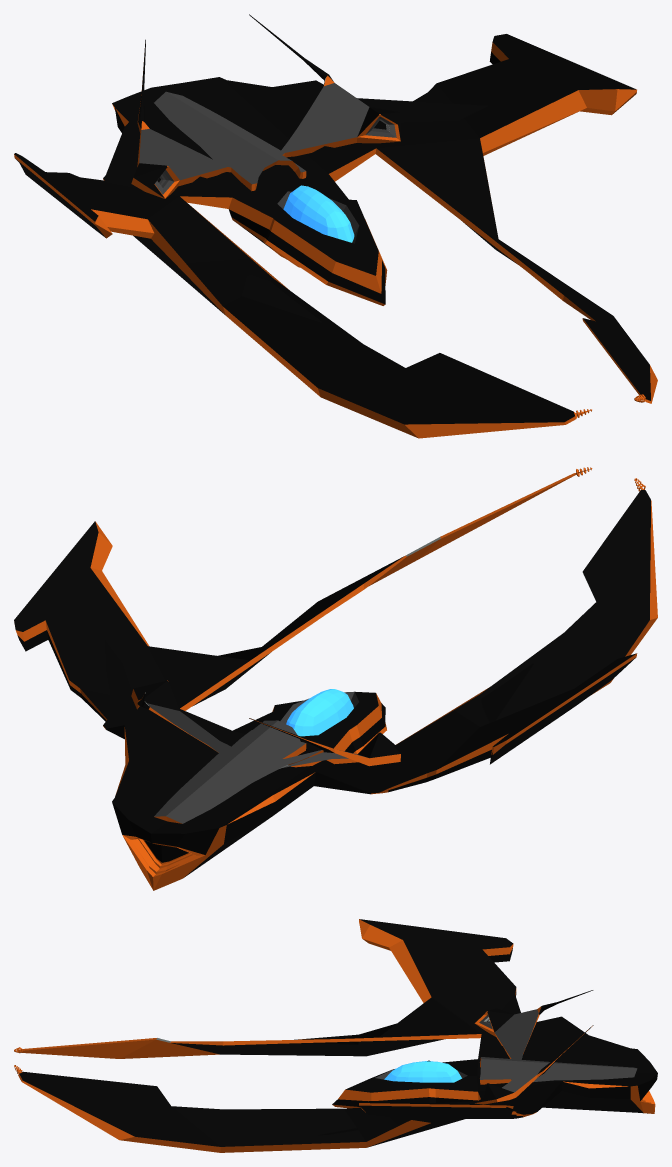
The model's file is Ship02.fbx.
The picture shows the model from 3 angles, top to bottom: view 1: azimuth 30°, elevation 25°; view 2: azimuth 150°, elevation 25°; view 3: azimuth 270°, elevation 25°; orthographic projection. The views are drawn at different scales.
Parts seen in each view (by area): view 1: Cube; view 2: Cube; view 3: Cube.
Part boxes in pixels (x1,y1,x2,y2): Cube: (14, 14, 657, 438); Cube: (14, 467, 657, 890); Cube: (14, 919, 657, 1152).
Bounding box in the file's own units: 8.86 × 2.4 × 13.1.
